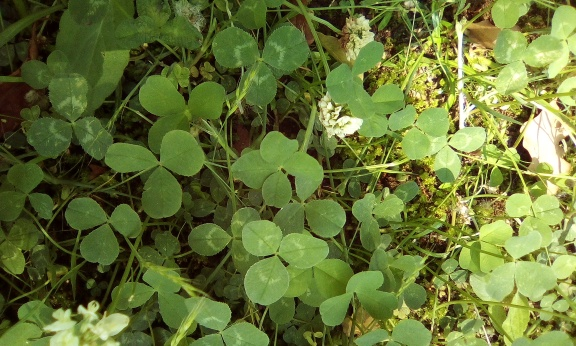4leaf: (230, 131, 324, 208)
